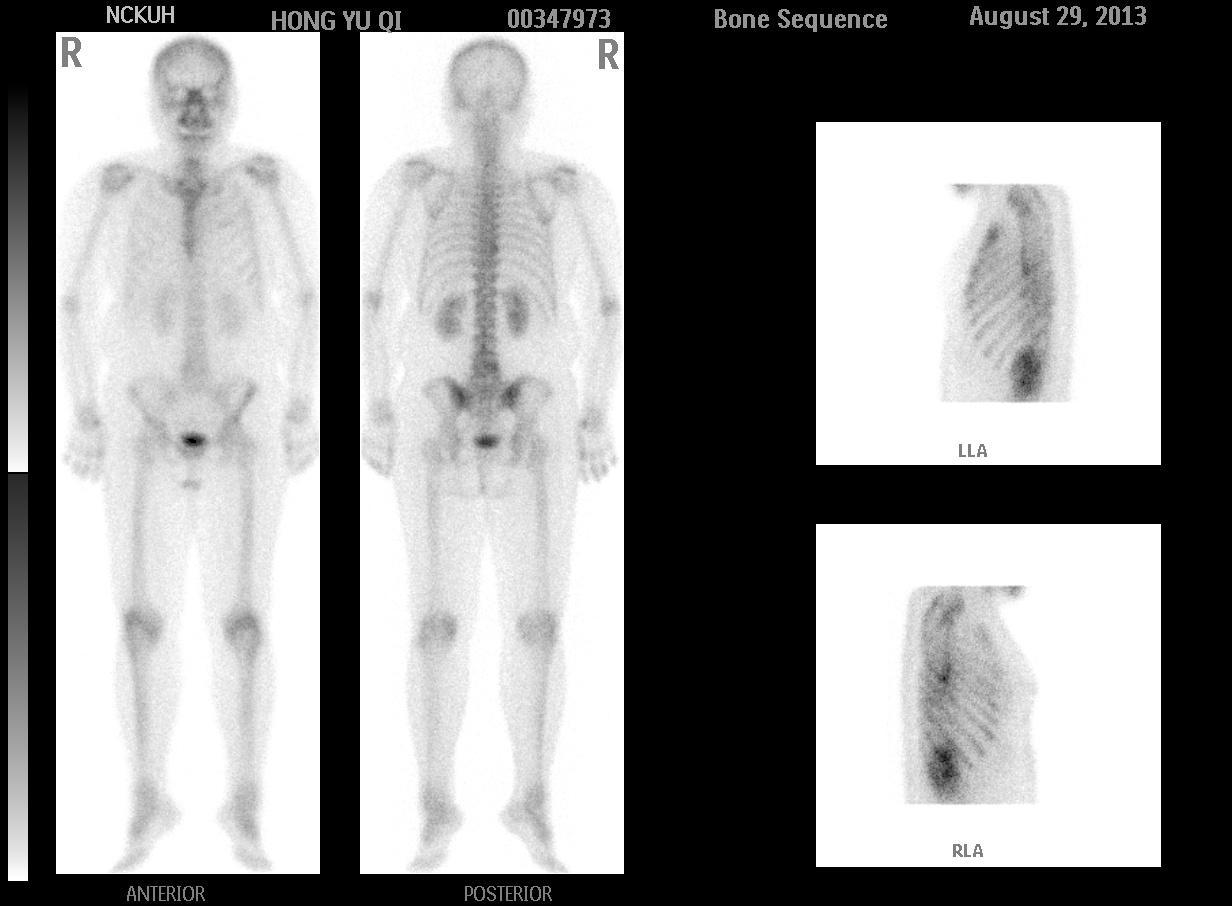person: (54, 33, 626, 876)
